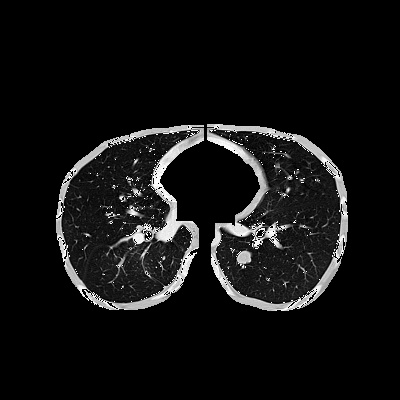PN: (236, 249, 252, 265)
